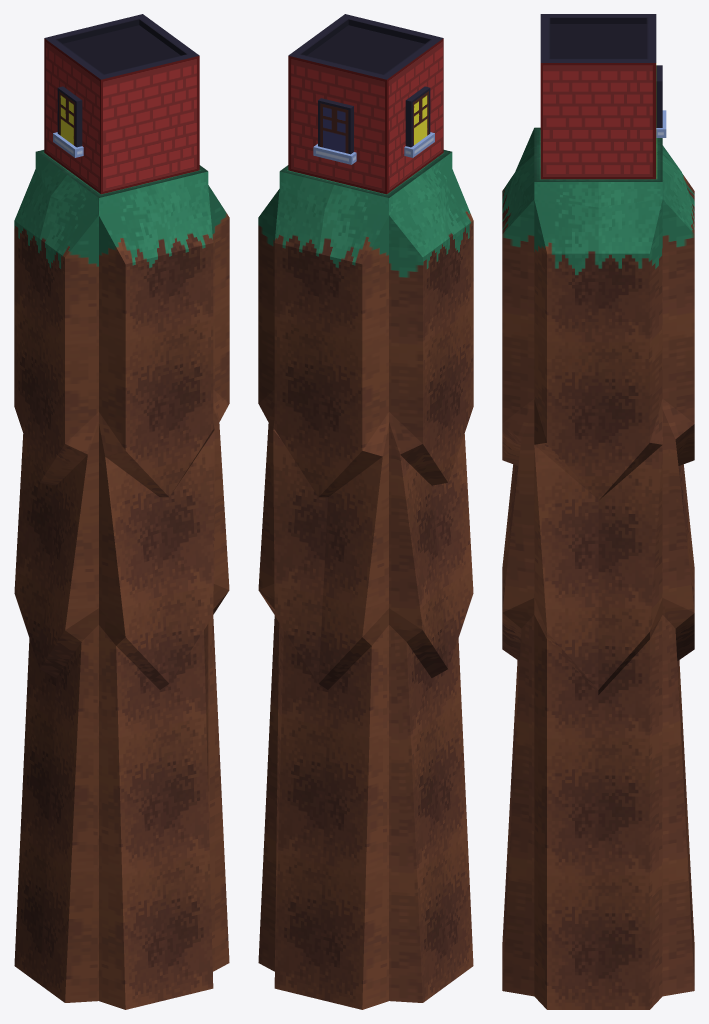
3 views of the same model, side by side, from view 1: azimuth 30°, elevation 25°; view 2: azimuth 150°, elevation 25°; view 3: azimuth 270°, elevation 25° (orthographic).
Visible parts, largest first — view 1: Cube, house, window1; view 2: Cube, house, window0, window1; view 3: Cube, house, window0.
Part boxes in pixels (left/top/right/bottom): Cube: left=14, top=150, right=229, bottom=1009; house: left=44, top=14, right=199, bottom=194; window1: left=53, top=86, right=83, bottom=157; Cube: left=258, top=150, right=473, bottom=1009; house: left=288, top=14, right=443, bottom=194; window0: left=313, top=98, right=356, bottom=164; window1: left=404, top=86, right=434, bottom=157; Cube: left=502, top=127, right=694, bottom=1009; house: left=540, top=14, right=656, bottom=179; window0: left=656, top=65, right=666, bottom=137.
Size of the model in its own units: 300 by 1600 by 300.
